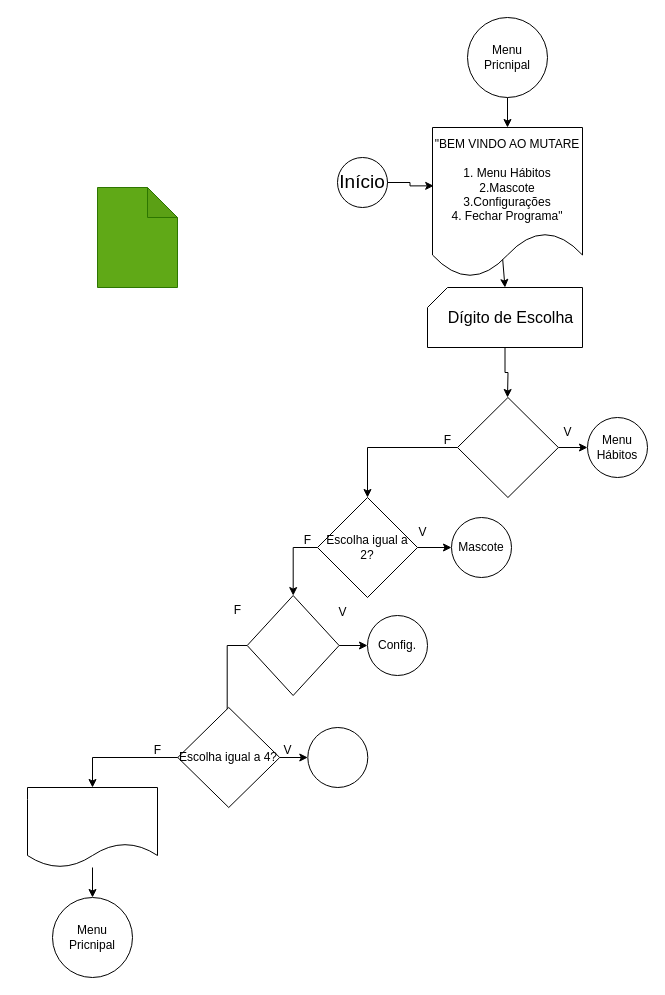
The diagram is 665 pixels wide and 995 high, and some of its shapes have lost their labels. The shapes that lost their labels are listed below. From the top down, each one's centre as x and y in pixels, then its label:
[137,237]: FLUXOGRAMA MUTARE O IMPULSO PARA MUDAR
[507,447]: Escolha igual a 1?
[292,645]: Escolha igual a 3?
[337,757]: Fim
[92,827]: "Dígito inválido. Digite novamente."
